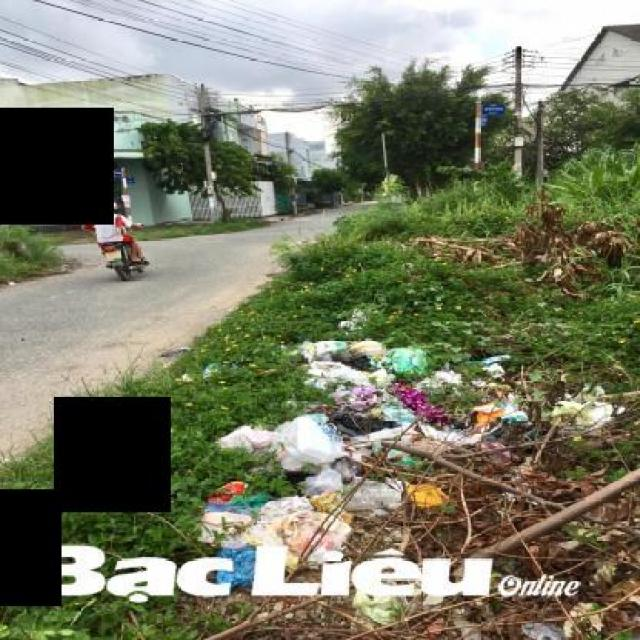plastic bag: (157, 323, 638, 608), (193, 480, 364, 585), (277, 412, 349, 470), (328, 472, 406, 517)
